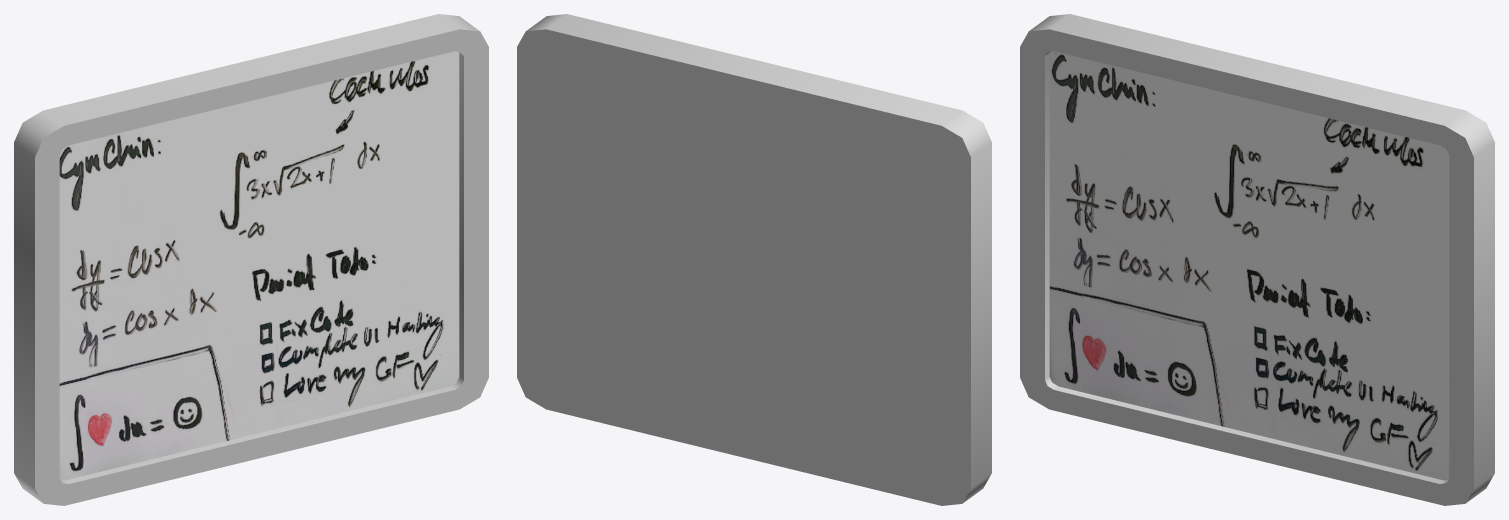
Rendered from Board (Variant A).fbx.
The picture shows the model from 3 angles, left to right: view 1: azimuth 30°, elevation 25°; view 2: azimuth 150°, elevation 25°; view 3: azimuth 330°, elevation 25°; orthographic projection.
Visible parts, largest first — view 1: Board B; view 2: Board B; view 3: Board B.
Boxes of the visible parts, bbox=[...] form: Board B: bbox=[14, 14, 488, 505]; Board B: bbox=[517, 14, 991, 505]; Board B: bbox=[1020, 14, 1494, 505].
Bounding box in the file's own units: 381 × 305 × 30.48.
